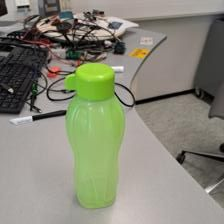bottle: (59, 61, 129, 214)
